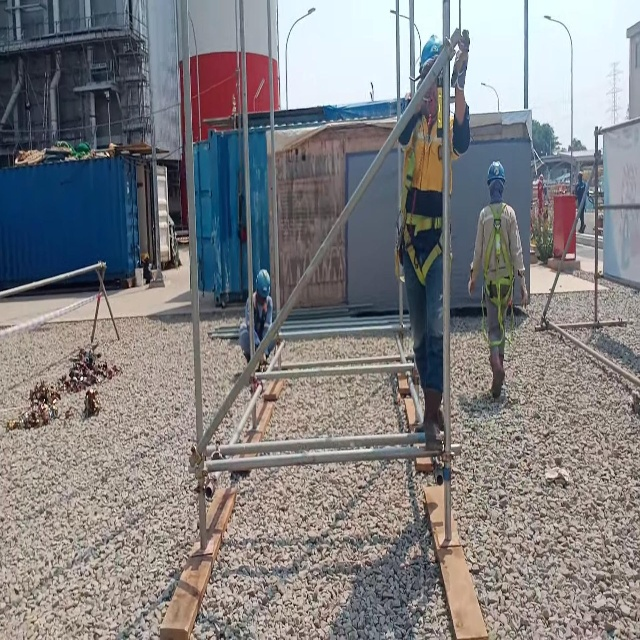Arnes_seguridad: (392, 117, 452, 290), (479, 197, 516, 348), (251, 292, 267, 339)
